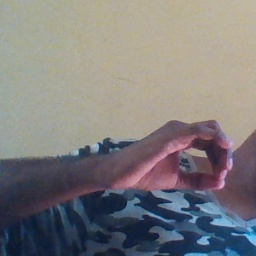O: (125, 113, 238, 204)
